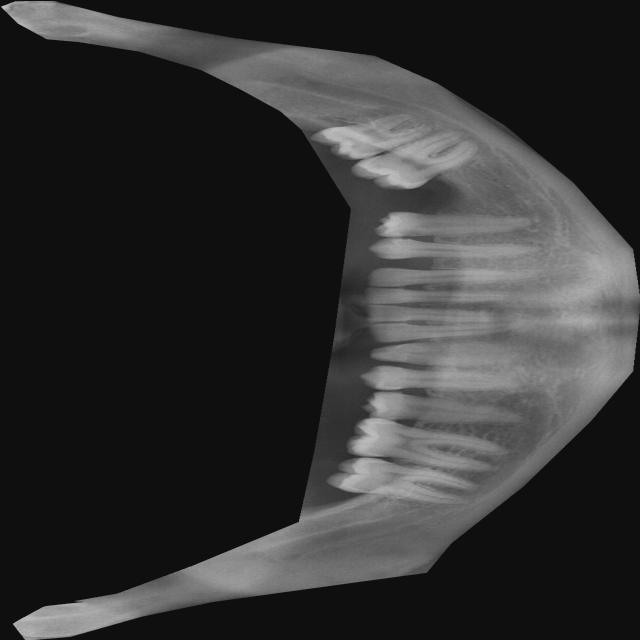mandibula: (1, 0, 640, 640)
